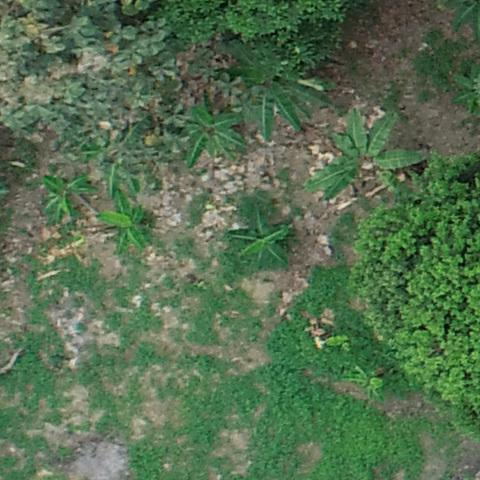Banana-plant: (212, 34, 335, 144), (302, 105, 431, 203), (174, 90, 250, 171), (93, 190, 157, 257), (226, 208, 292, 269), (39, 169, 98, 227)
